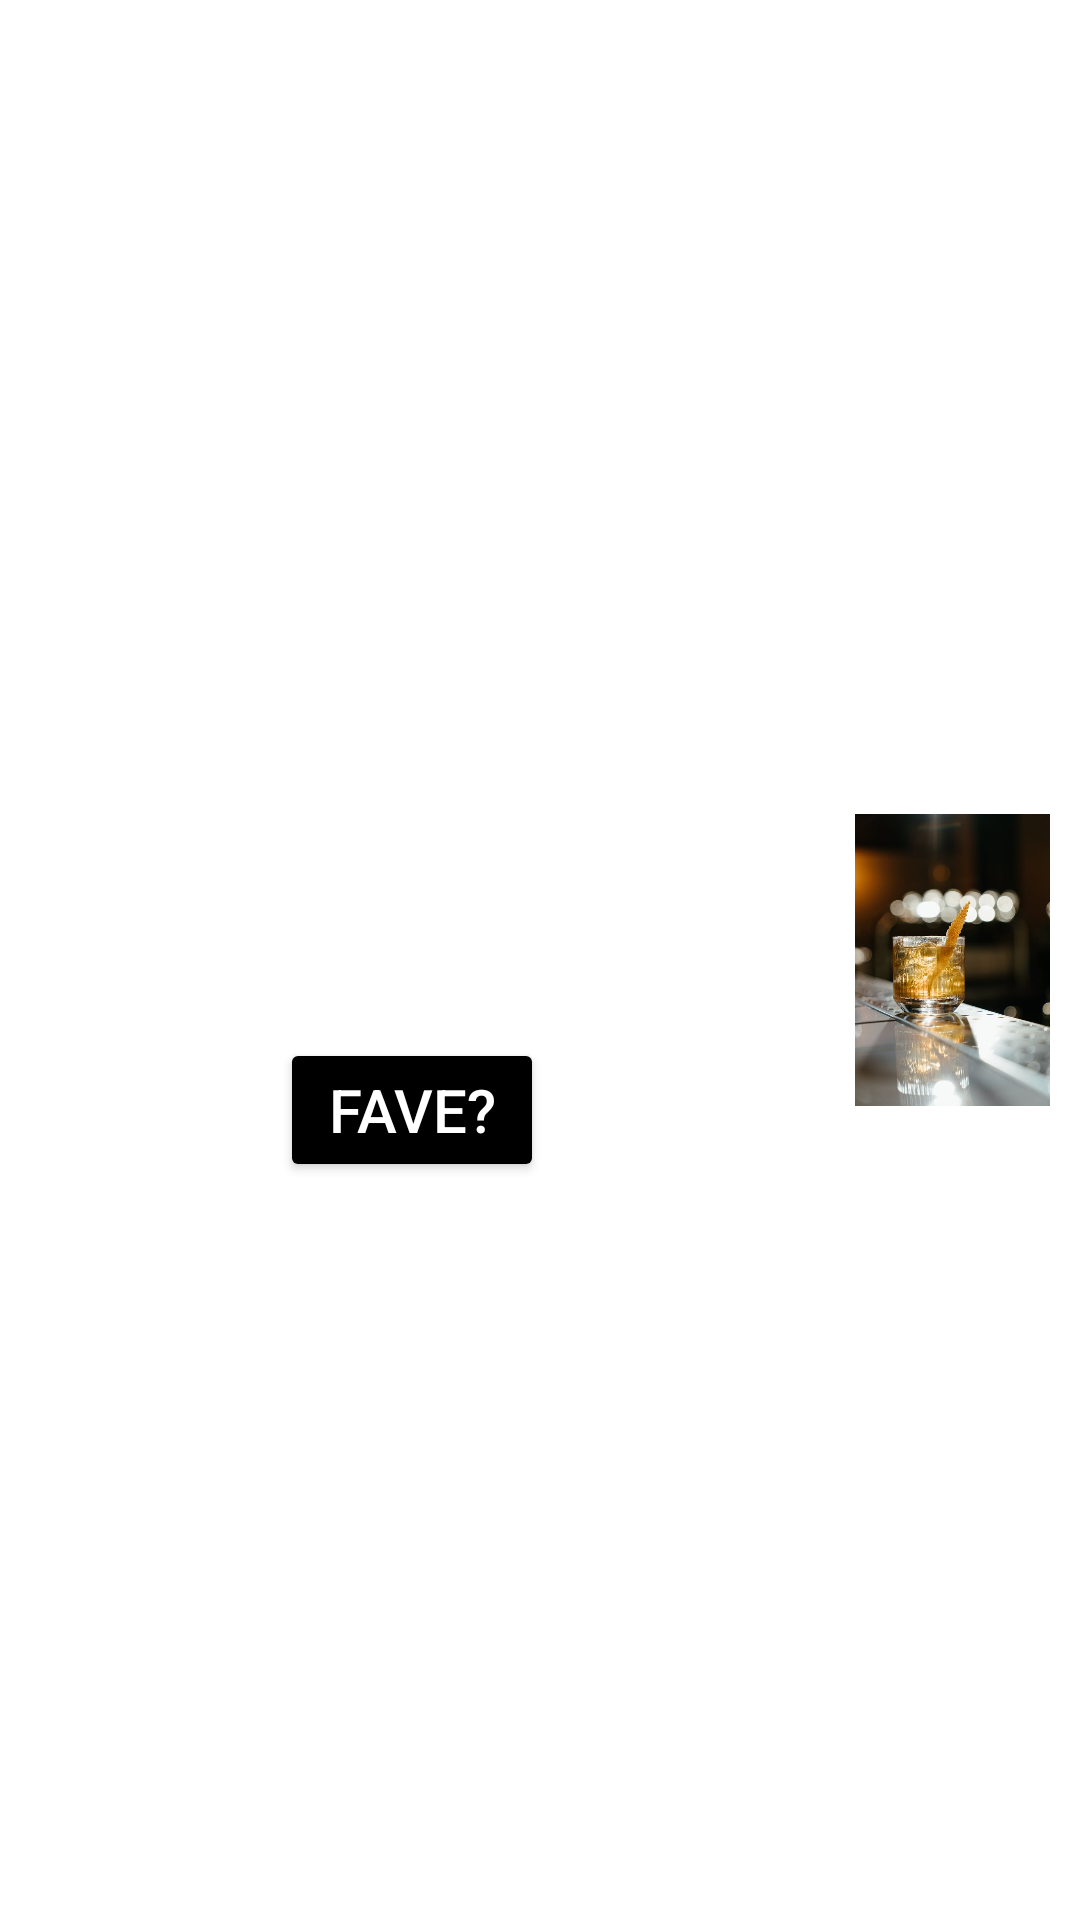

Locate icon controls on the screen. Image size 1080px x 1920px, boxes as {"left": x1, "top": y1, "right": x2, "bottom": y2}.
cocktail: {"left": 855, "top": 814, "right": 1050, "bottom": 1106}
